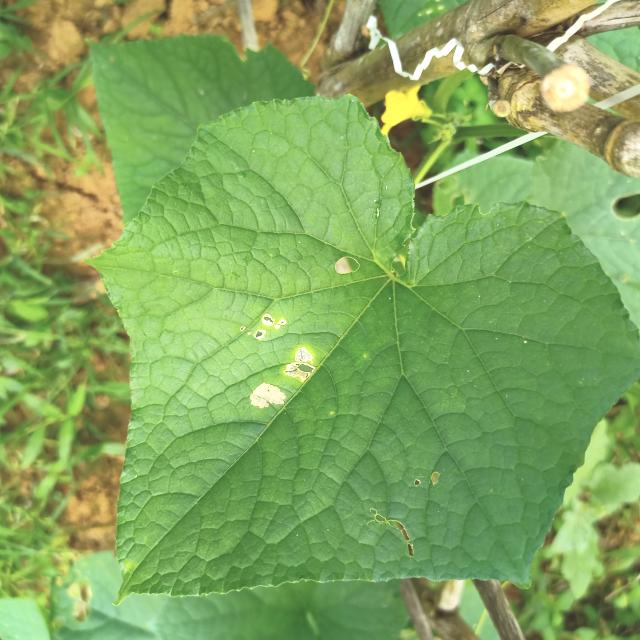disease_cucumber: (247, 308, 315, 410)
